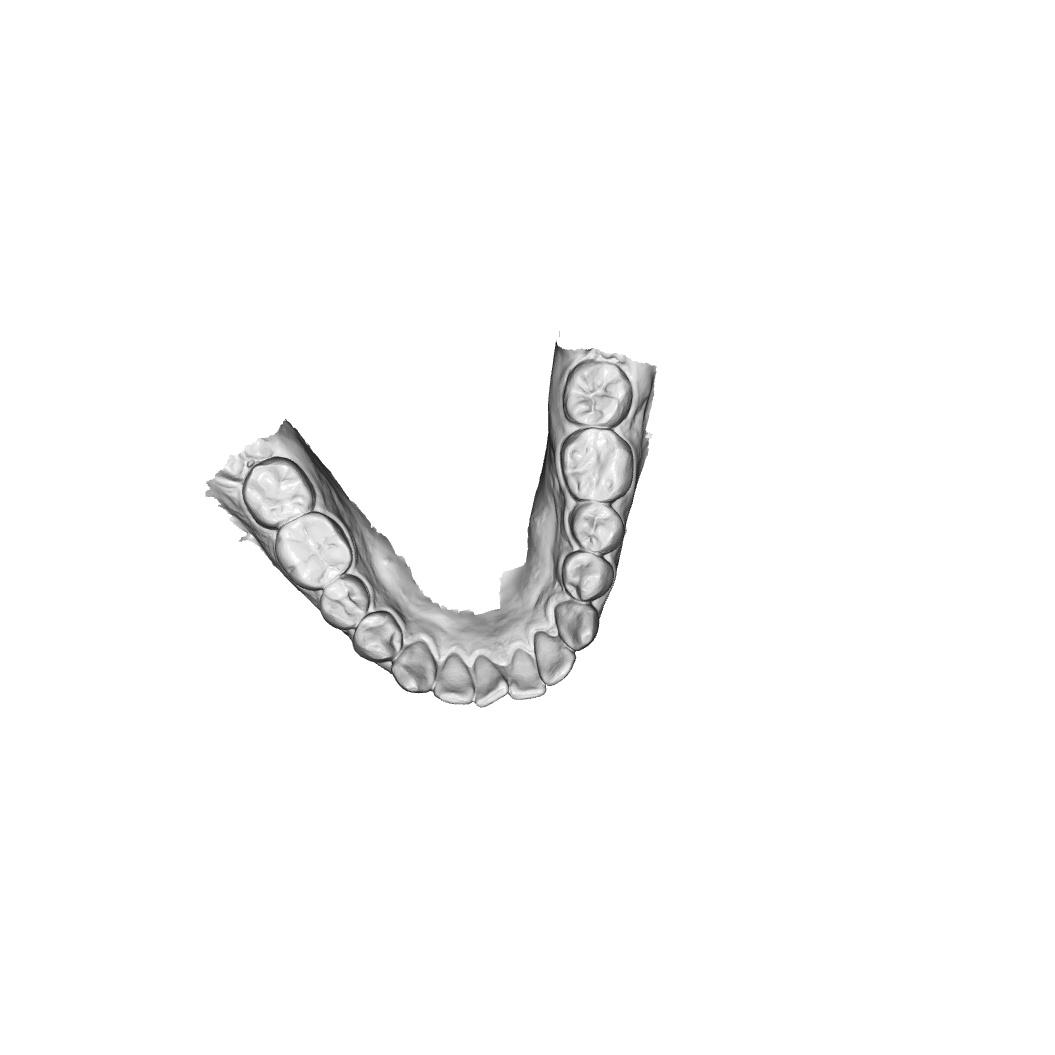canine: (390, 639, 437, 696), (553, 599, 600, 652)
incisor: (532, 630, 577, 687), (433, 651, 475, 706), (507, 647, 547, 702), (471, 653, 510, 709)
molar: (274, 511, 353, 592), (558, 427, 636, 503), (242, 455, 317, 531), (561, 359, 634, 427)
premolar: (568, 502, 626, 556), (318, 573, 371, 631), (351, 610, 405, 664), (561, 549, 614, 601)
